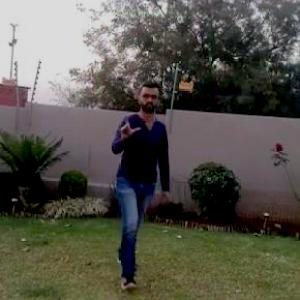land_hand: (117, 110, 143, 140)
